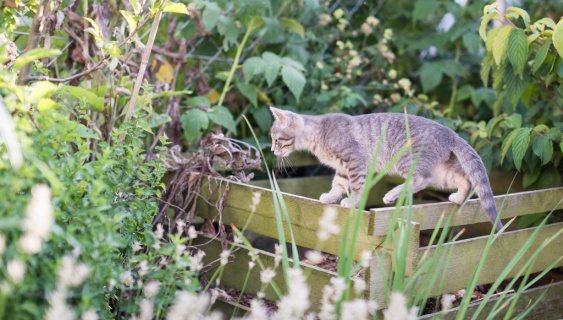Cat: (267, 107, 506, 235)
